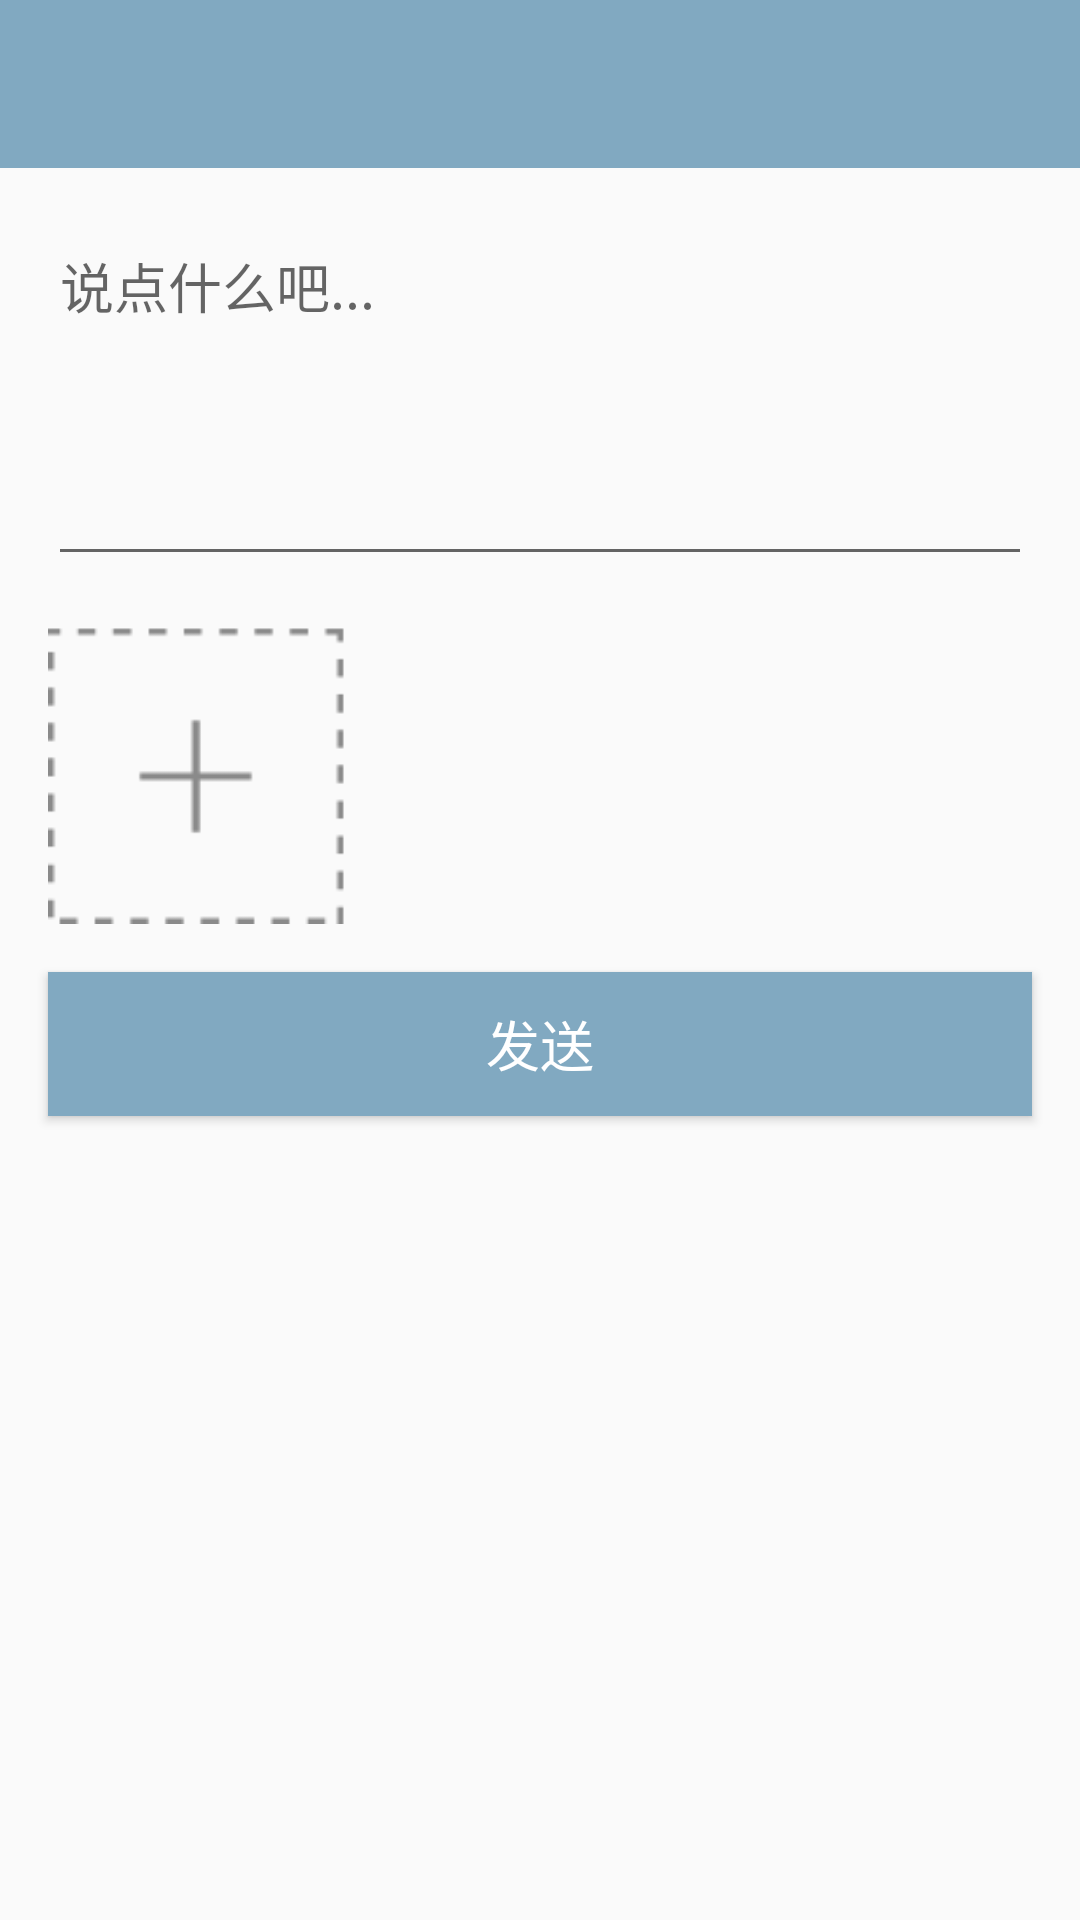

Where to tap for icons on this 1080×1920 app screen, as [x,y]:
addimg: [196,776]
